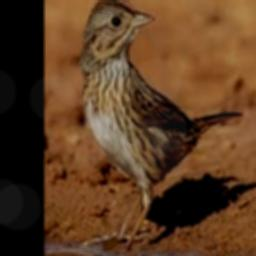Sparrow: (80, 0, 243, 247)
